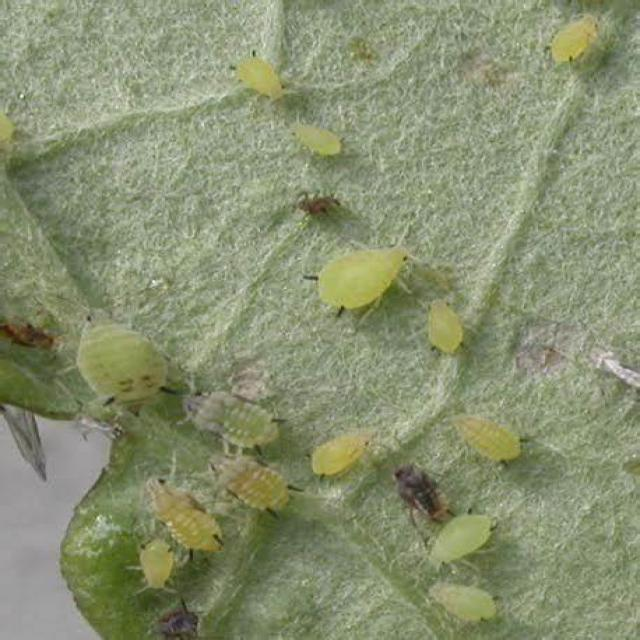Aphids: (95, 380, 328, 613), (294, 229, 480, 365), (216, 38, 368, 168), (58, 296, 184, 416), (408, 512, 524, 636), (438, 393, 536, 476), (533, 9, 622, 85), (303, 427, 389, 489)
